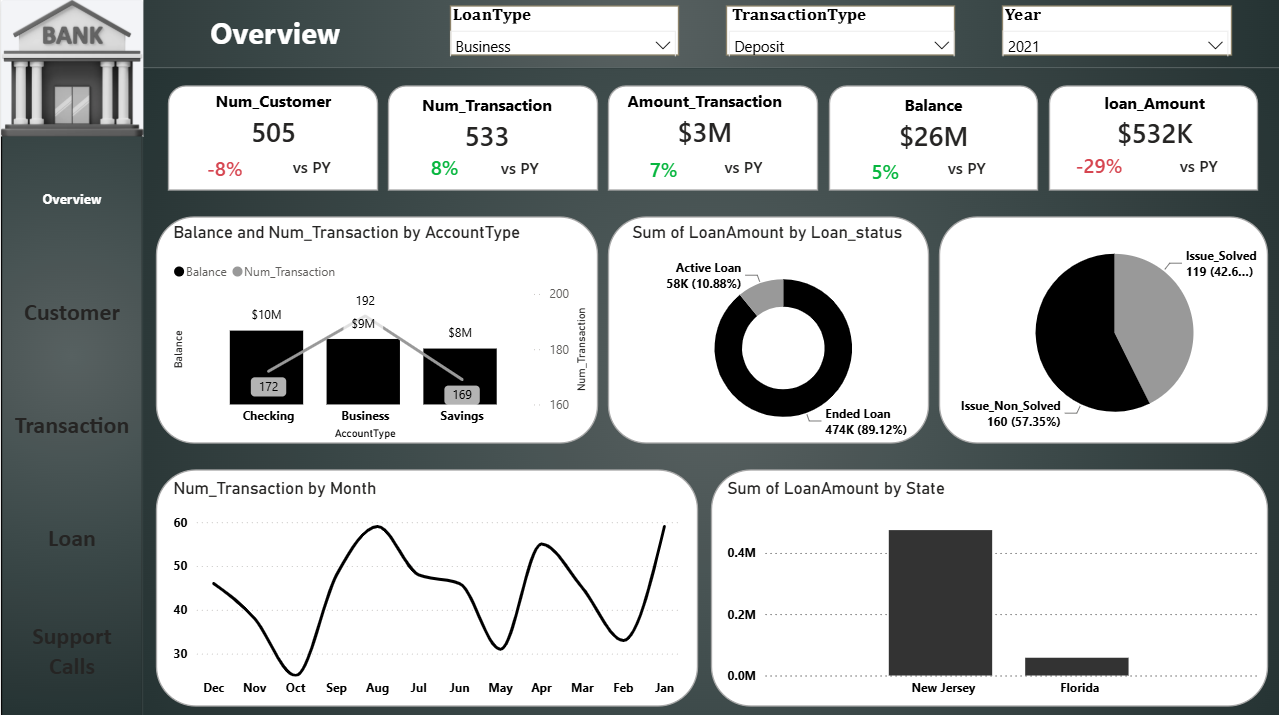

The dashboard page shown, as its layout file describes it:
{"tool":"powerbi","page":{"name":"Overview","canvas":[1280,720],"ordinal":0},"visuals":[{"type":"cardVisual","fields":{"Data":["Calculation_Overview.Num_Customer"]},"box":[182.5,72.5,180,96.2],"z":0},{"type":"cardVisual","fields":{"Data":["Calculation_Overview.Num_Transaction"]},"box":[380,81.2,212.5,87.5],"z":1000},{"type":"slicer","fields":{"Values":["Calender.Year"]},"box":[991.2,0,246.2,58.8],"z":2000},{"type":"cardVisual","fields":{"Data":["Calculation_Overview.Amount_Transaction"]},"box":[596.2,72.5,215,96.2],"z":3000},{"type":"cardVisual","fields":{"Data":["Calculation_Overview.Balance"]},"box":[840,81.2,185,87.5],"z":4000},{"type":"cardVisual","fields":{"Data":["Calculation_Overview.loan_Amount"]},"box":[1046.2,76.2,215,92.5],"z":5000},{"type":"cardVisual","fields":{"Data":["Calculation_Overview.Show_Customer"]},"box":[198.8,146.2,138.8,45],"z":6000},{"type":"cardVisual","fields":{"Data":["Calculation_Overview.Show_Transaction"]},"box":[423.8,138.8,168.8,60],"z":7000},{"type":"cardVisual","fields":{"Data":["Calculation_Overview.Show_Amount_Transaction"]},"box":[640,136.2,180,66.2],"z":8000},{"type":"cardVisual","fields":{"Data":["Calculation_Overview.Show_Balance"]},"box":[862.5,138.8,201.2,66.2],"z":9000},{"type":"cardVisual","fields":{"Data":["Calculation_Overview.Show_Loan_Amount"]},"box":[1063.8,136.2,173.8,60],"z":10000},{"type":"lineClusteredColumnComboChart","fields":{"Y":["Calculation_Overview.Balance"],"Category":["Accounts.AccountType"],"Y2":["Calculation_Overview.Num_Transaction"]},"box":[167.5,223.8,425,222.5],"z":11000},{"type":"donutChart","fields":{"Y":["Sum(Loans.LoanAmount)"],"Category":["Loans.Loan_status"]},"box":[626.2,223.8,312.5,222.5],"z":12000},{"type":"lineChart","title":"Num_Transaction by Month","fields":{"Y":["Calculation_Overview.Num_Transaction"],"Category":["Calender.Month_Name"]},"box":[167.5,480,517.5,227.5],"z":13000},{"type":"clusteredColumnChart","fields":{"Category":["customers.State"],"Y":["Sum(Loans.LoanAmount)"]},"box":[721.2,480,540,227.5],"z":14000},{"type":"pieChart","fields":{"Y":["Customer_Servie.Issue_Solved","Customer_Servie.Issue_Not_Solved"]},"box":[947.5,223.8,332.5,222.5],"z":15000},{"type":"slicer","fields":{"Values":["Transactions.TransactionType"]},"box":[717.5,0,246.2,58.8],"z":16000},{"type":"slicer","fields":{"Values":["Loans.LoanType"]},"box":[438.8,0,246.2,58.8],"z":17000},{"type":"pageNavigator","box":[0,146.2,142.5,561.2],"z":18000},{"type":"image","box":[0,0,142.5,140],"z":18001},{"type":"shape","box":[162.5,0,223.8,67.5],"z":18002}]}

Visuals, with their boxes in screenshot pixels (x1, y1, x2, y2), scaled from the page's 1280x720 canvas onto the 1279x715 screenshot:
cardVisual - Calculation_Overview.Num_Customer: {"x1": 182, "y1": 72, "x2": 362, "y2": 168}
cardVisual - Calculation_Overview.Num_Transaction: {"x1": 380, "y1": 81, "x2": 592, "y2": 168}
slicer - Calender.Year: {"x1": 990, "y1": 0, "x2": 1236, "y2": 58}
cardVisual - Calculation_Overview.Amount_Transaction: {"x1": 596, "y1": 72, "x2": 811, "y2": 168}
cardVisual - Calculation_Overview.Balance: {"x1": 839, "y1": 81, "x2": 1024, "y2": 168}
cardVisual - Calculation_Overview.loan_Amount: {"x1": 1045, "y1": 76, "x2": 1260, "y2": 168}
cardVisual - Calculation_Overview.Show_Customer: {"x1": 199, "y1": 145, "x2": 337, "y2": 190}
cardVisual - Calculation_Overview.Show_Transaction: {"x1": 423, "y1": 138, "x2": 592, "y2": 197}
cardVisual - Calculation_Overview.Show_Amount_Transaction: {"x1": 640, "y1": 135, "x2": 819, "y2": 201}
cardVisual - Calculation_Overview.Show_Balance: {"x1": 862, "y1": 138, "x2": 1063, "y2": 204}
cardVisual - Calculation_Overview.Show_Loan_Amount: {"x1": 1063, "y1": 135, "x2": 1237, "y2": 195}
lineClusteredColumnComboChart - Calculation_Overview.Balance x Accounts.AccountType: {"x1": 167, "y1": 222, "x2": 592, "y2": 443}
donutChart - Sum(Loans.LoanAmount) x Loans.Loan_status: {"x1": 626, "y1": 222, "x2": 938, "y2": 443}
"Num_Transaction by Month" lineChart: {"x1": 167, "y1": 477, "x2": 684, "y2": 703}
clusteredColumnChart - customers.State x Sum(Loans.LoanAmount): {"x1": 721, "y1": 477, "x2": 1260, "y2": 703}
pieChart - Customer_Servie.Issue_Solved x Customer_Servie.Issue_Not_Solved: {"x1": 947, "y1": 222, "x2": 1278, "y2": 443}
slicer - Transactions.TransactionType: {"x1": 717, "y1": 0, "x2": 963, "y2": 58}
slicer - Loans.LoanType: {"x1": 438, "y1": 0, "x2": 684, "y2": 58}
pageNavigator: {"x1": 0, "y1": 145, "x2": 142, "y2": 702}
image: {"x1": 0, "y1": 0, "x2": 142, "y2": 139}
shape: {"x1": 162, "y1": 0, "x2": 386, "y2": 67}
